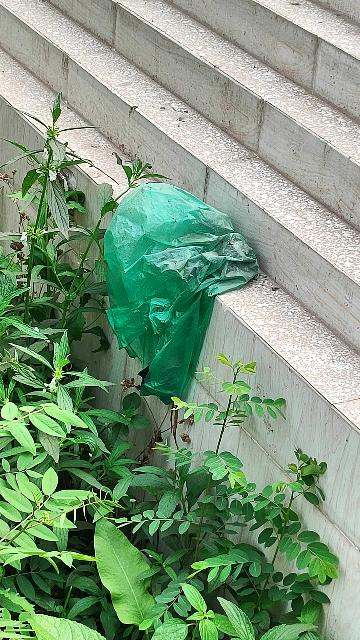polythene: (90, 188, 266, 389)
